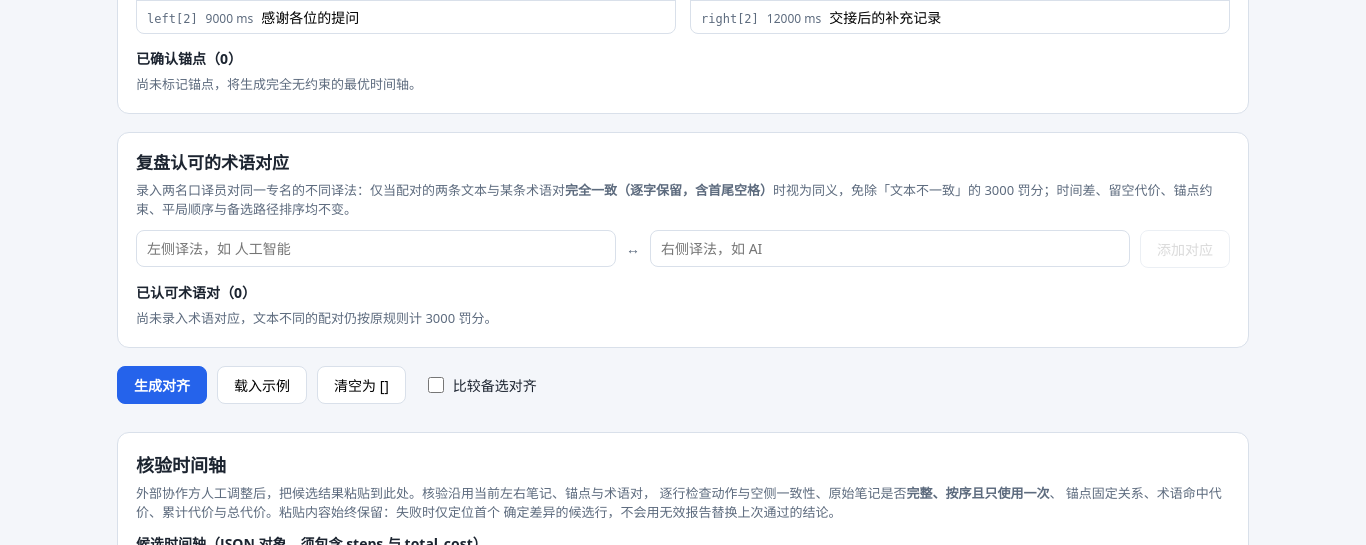
Test: App › does not show a response that returns after the input changed
(page scrolled)
Click the button with test id "submit".
click(162, 385)  # box [117,366,207,404]
(page scrolled)
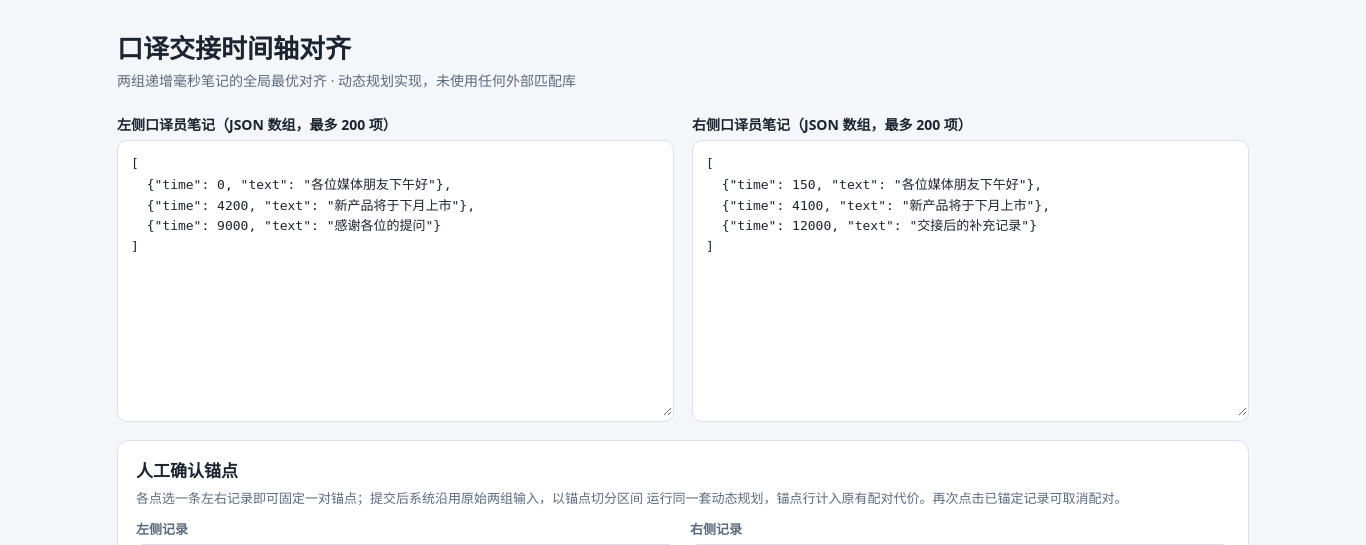
// The notes change while the request is still in flight.
Replace the text in the text box with test id "input-left" with "[]" at (396, 279), box [118,141,673,417]
(page scrolled)
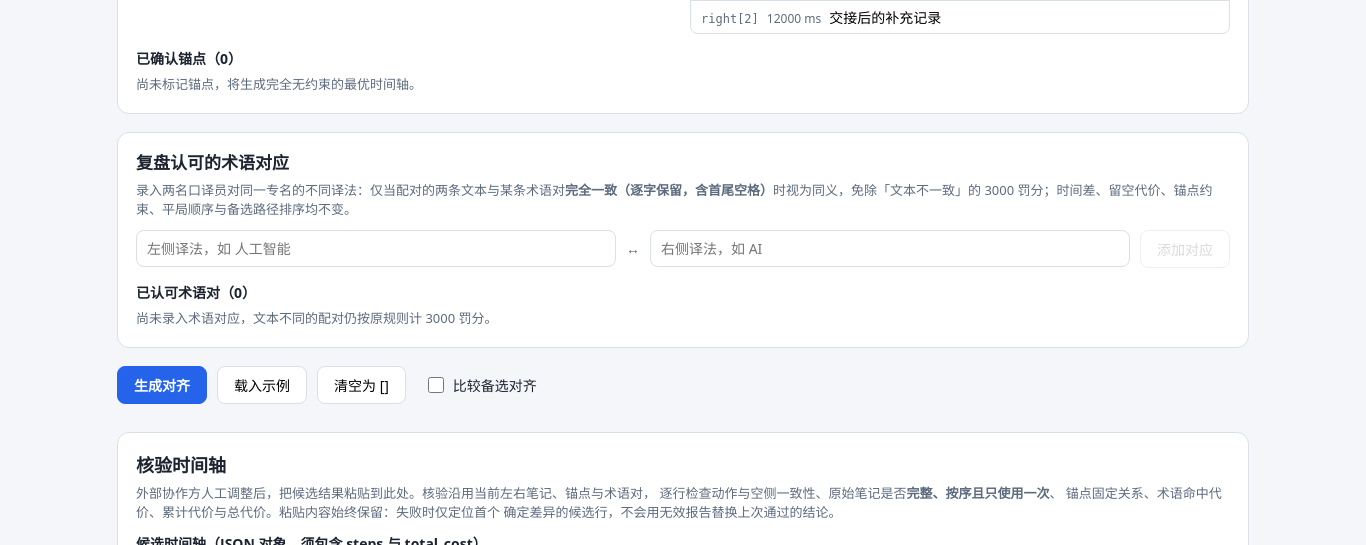
Check: the button with test id "submit" is enabled, box [117,366,207,404]
